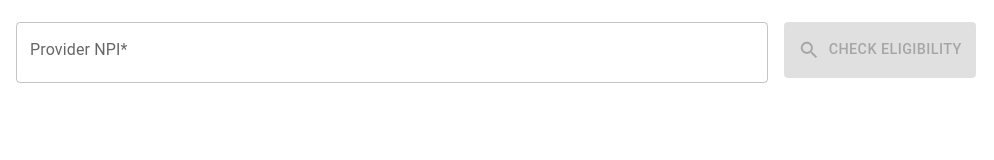
Test: NPISearch Component › validates NPI input before submission
Check: the button "Check Eligibility" is disabled, box [784,22,976,78]
Note: Enter invalid NPI
In the field labelled "Provider NPI*": coordinates (392, 52) [16,22,768,83], type "123"
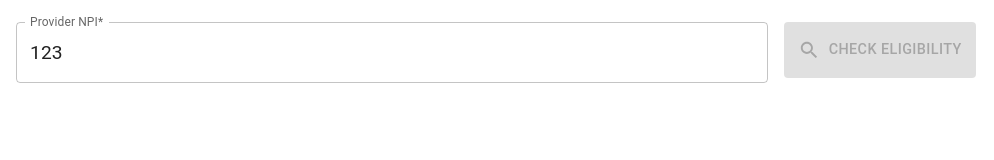
Check: the button "Check Eligibility" is disabled, box [784,22,976,78]
Note: Enter valid NPI
Replace the text in the field labelled "Provider NPI*" with "1104025329": coordinates (392, 52) [16,22,768,83]
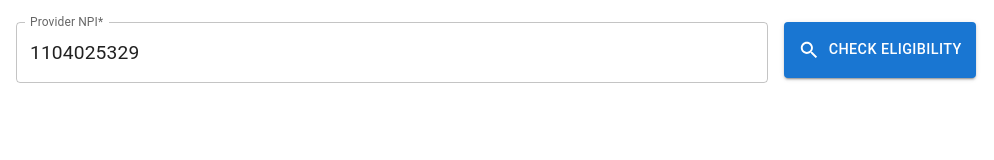
Check: the button "Check Eligibility" is enabled, box [784,22,976,78]
